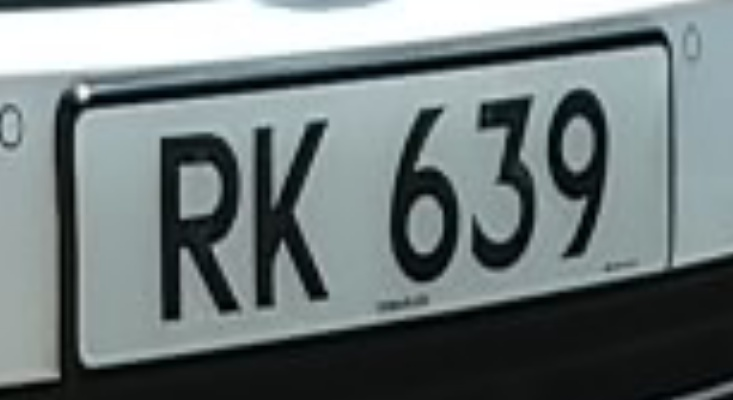3: (467, 82, 545, 296)
6: (381, 88, 468, 304)
9: (537, 77, 618, 282)
K: (242, 101, 345, 333)
R: (142, 102, 254, 351)
